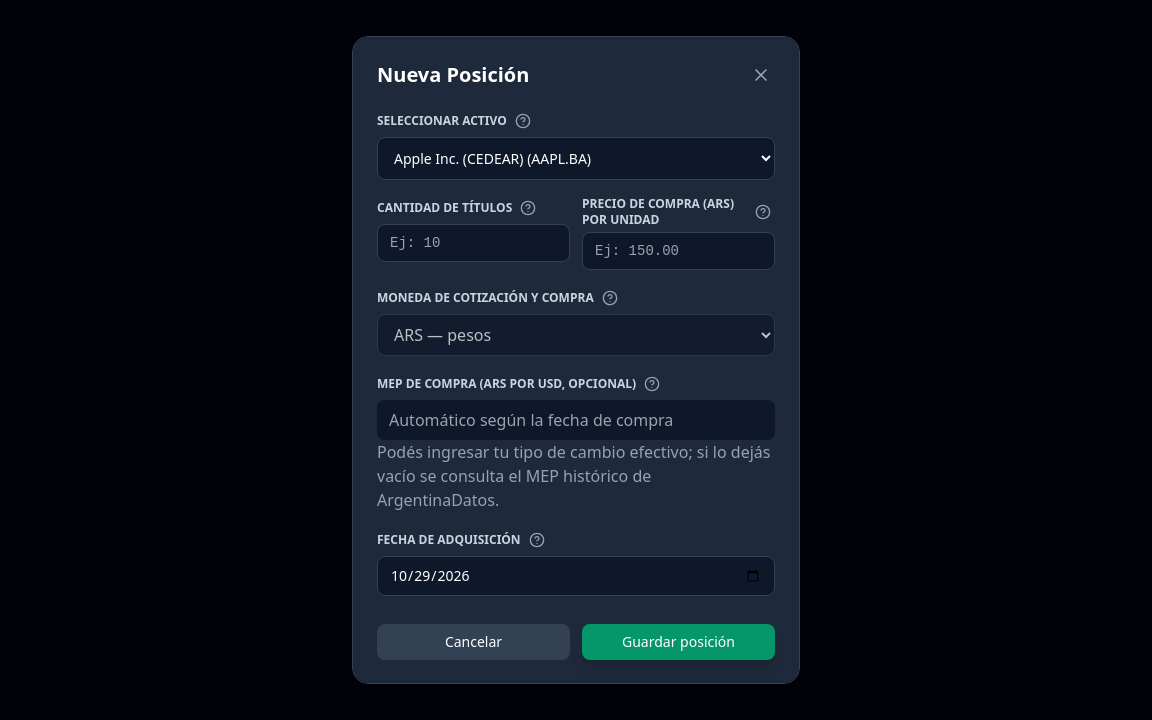
USD portfolio presentation › preserves the form and explains errors when saving fails
The image size is (1152, 720).
Select "Apple Inc. (NASDAQ) (AAPL)" in the dropdown labelled "Seleccionar Activo" at {"x": 576, "y": 158}, box [377, 137, 775, 180]
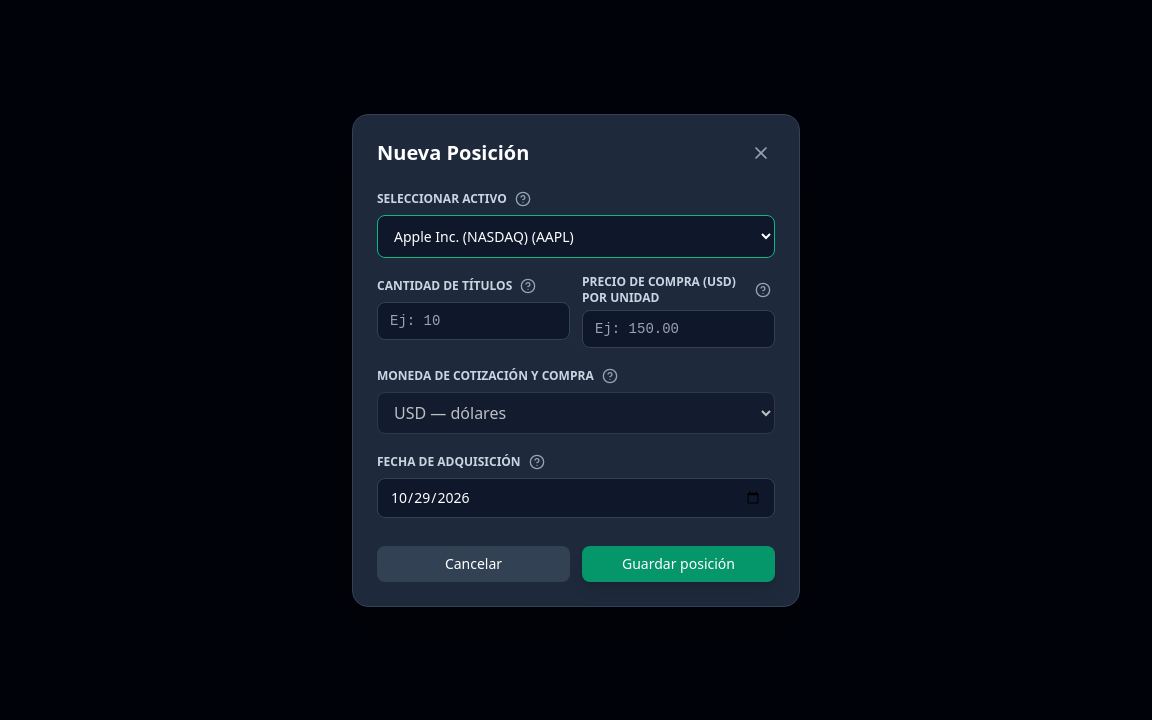
Type "2" into the number field labelled "Cantidad de títulos" at {"x": 474, "y": 320}, box [377, 302, 570, 340]
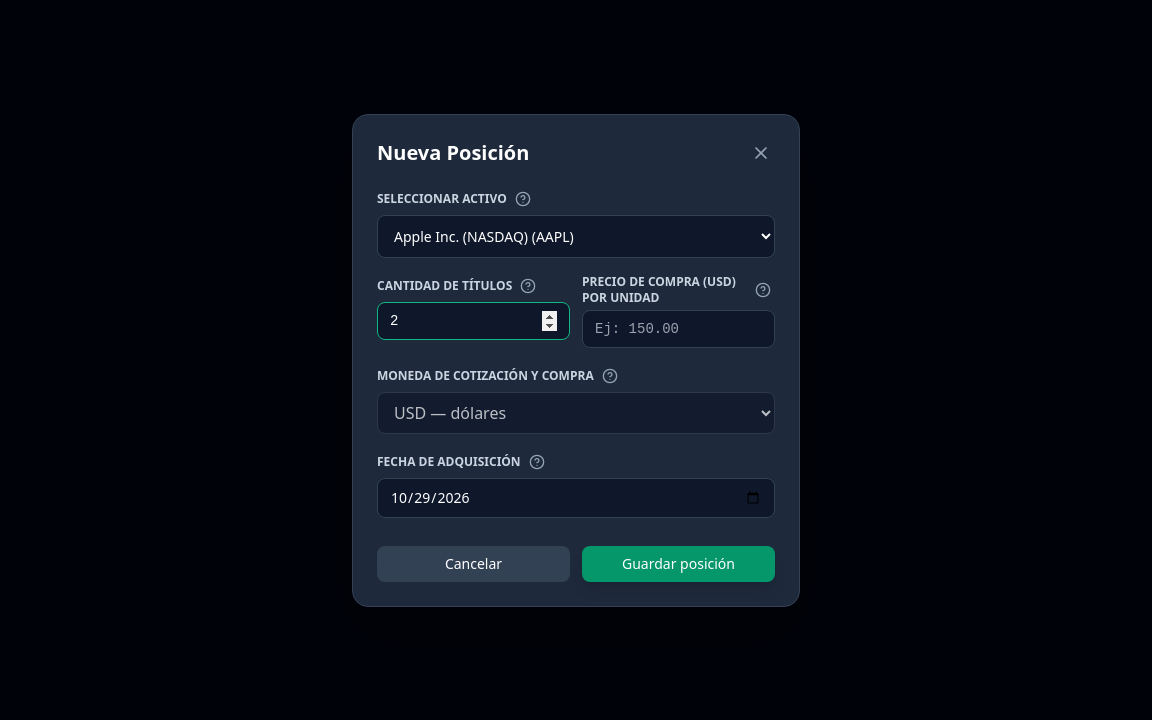
Type "100" into the number field labelled "Precio de compra (USD) por unidad" at {"x": 678, "y": 328}, box [582, 310, 775, 348]
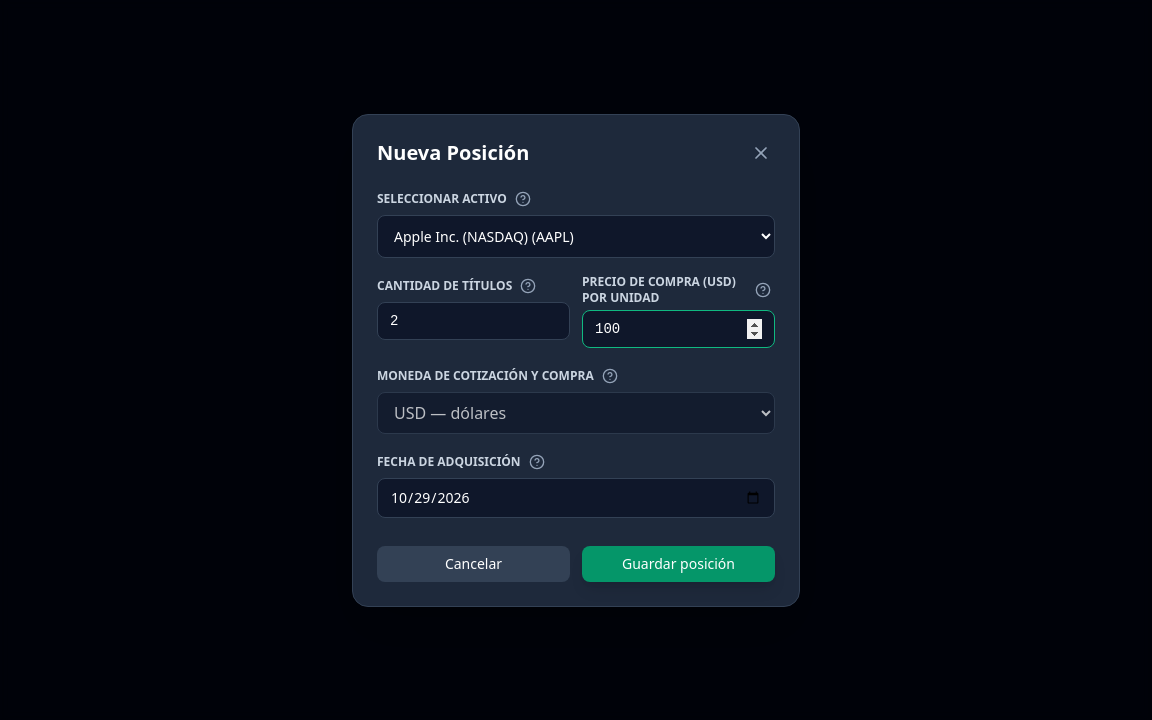
Click the button "Guardar posición" at {"x": 678, "y": 564}, box [582, 546, 775, 582]
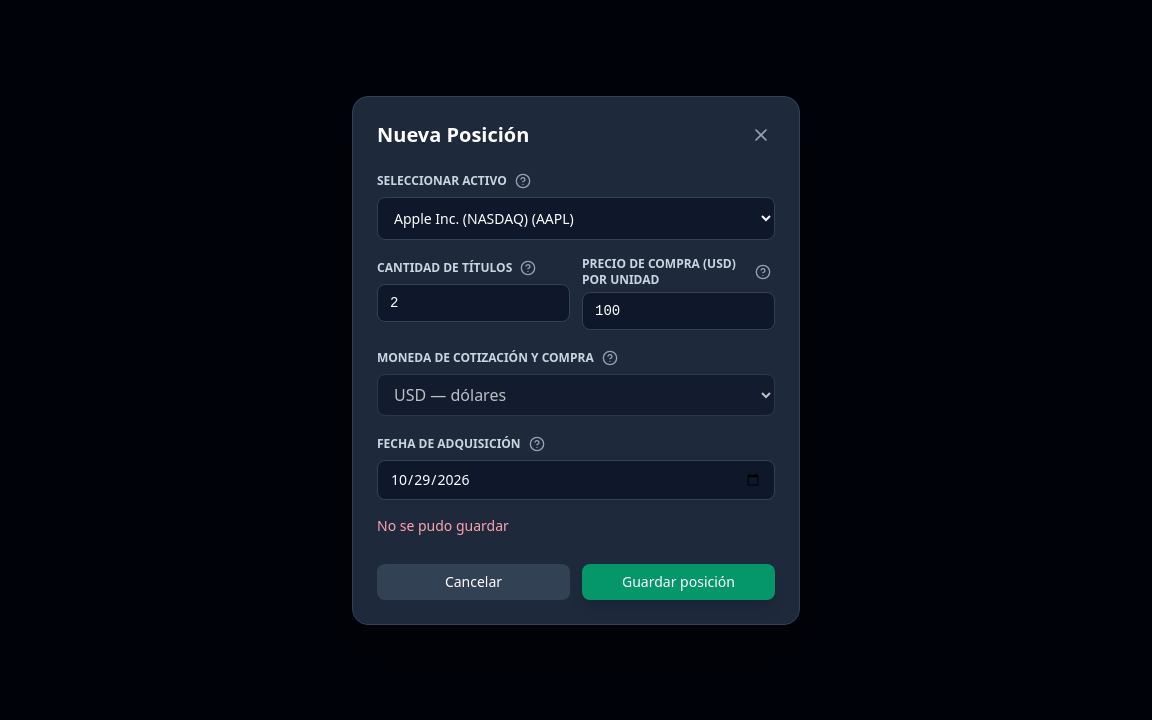
Now the message reads "No se pudo guardar", box [377, 516, 509, 534]
